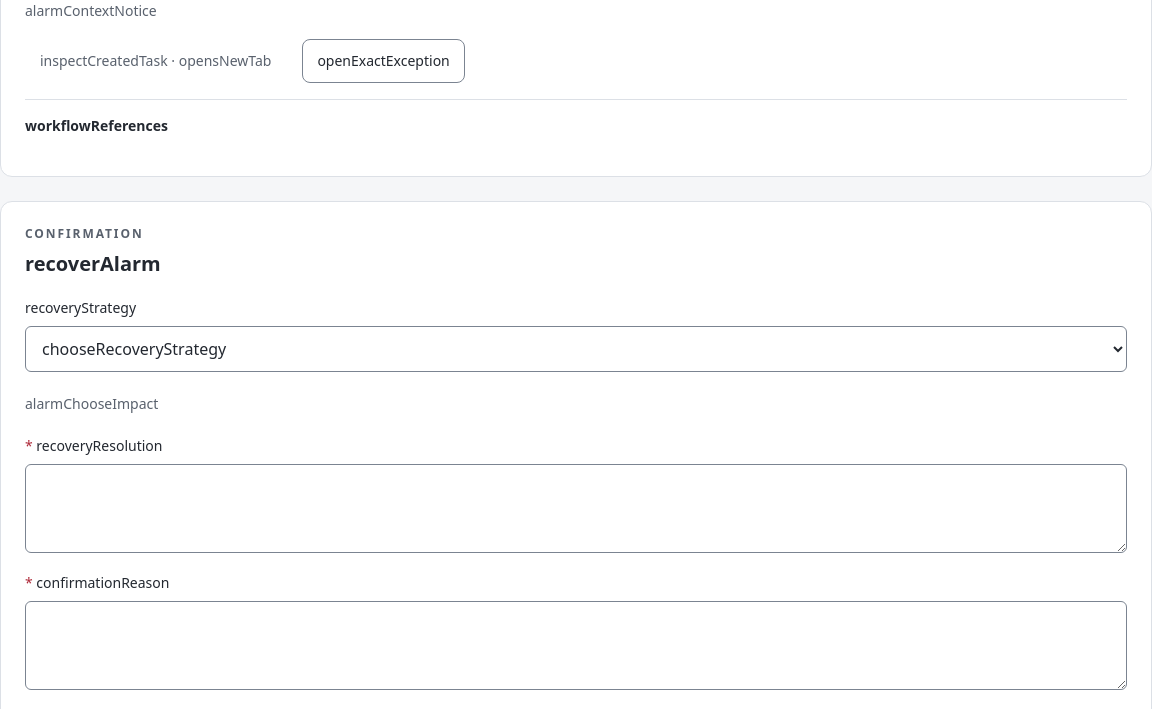
Test case: exact exception handoff retains identity while session withdrawal fails the existing mutation path
(page scrolled)
Select "releaseTask" in the dropdown labelled "recoveryStrategy": (576, 349) [25,326,1127,372]
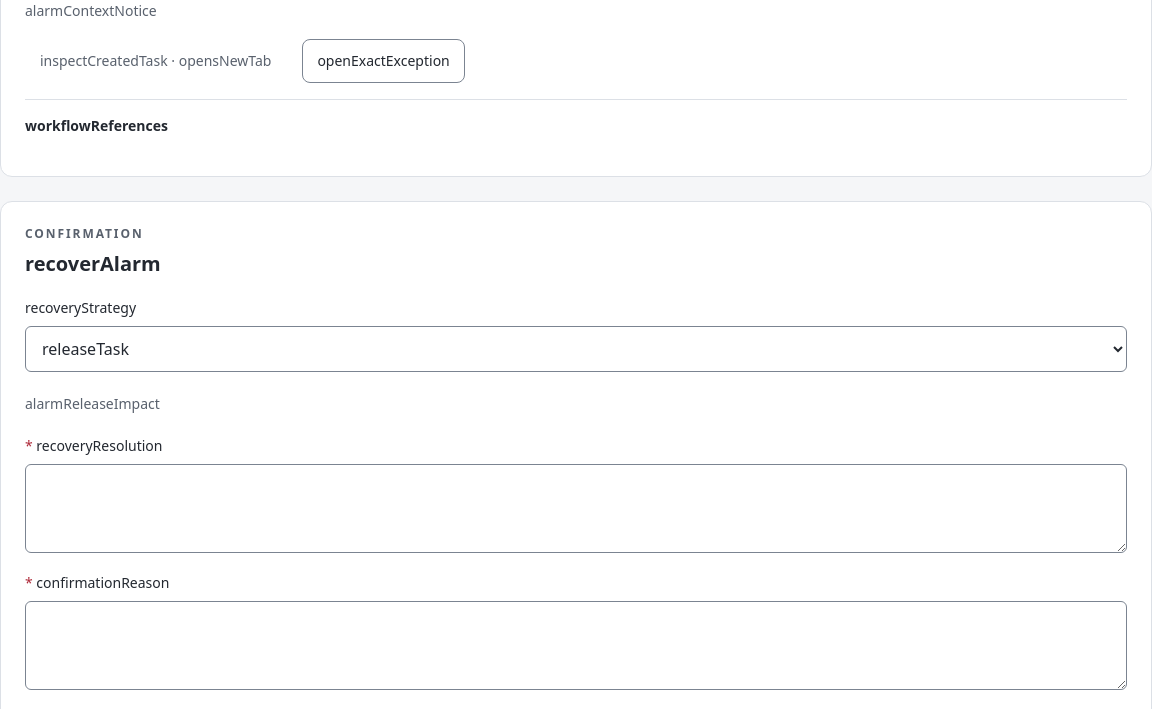
In the text box labelled "recoveryResolution": (576, 509) [25,464,1127,553], type "Physical evidence reviewed"
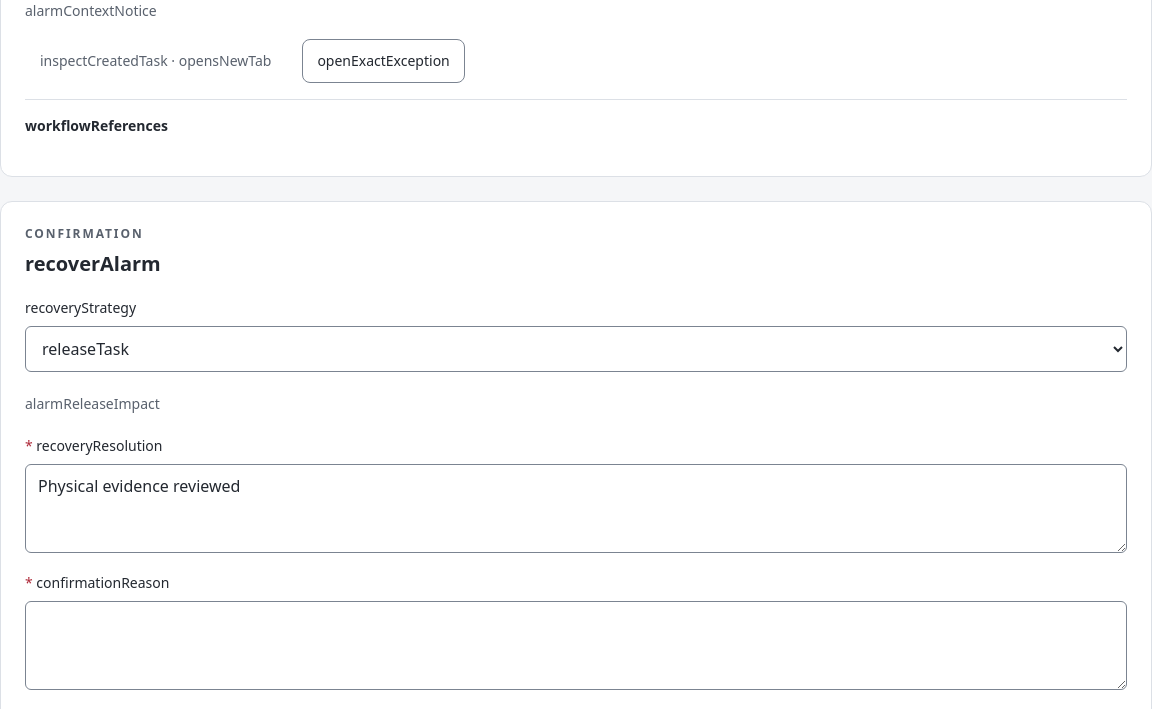
In the text box labelled "confirmationReason": (576, 646) [25,601,1127,690], type "Verified evidence"
(page scrolled)
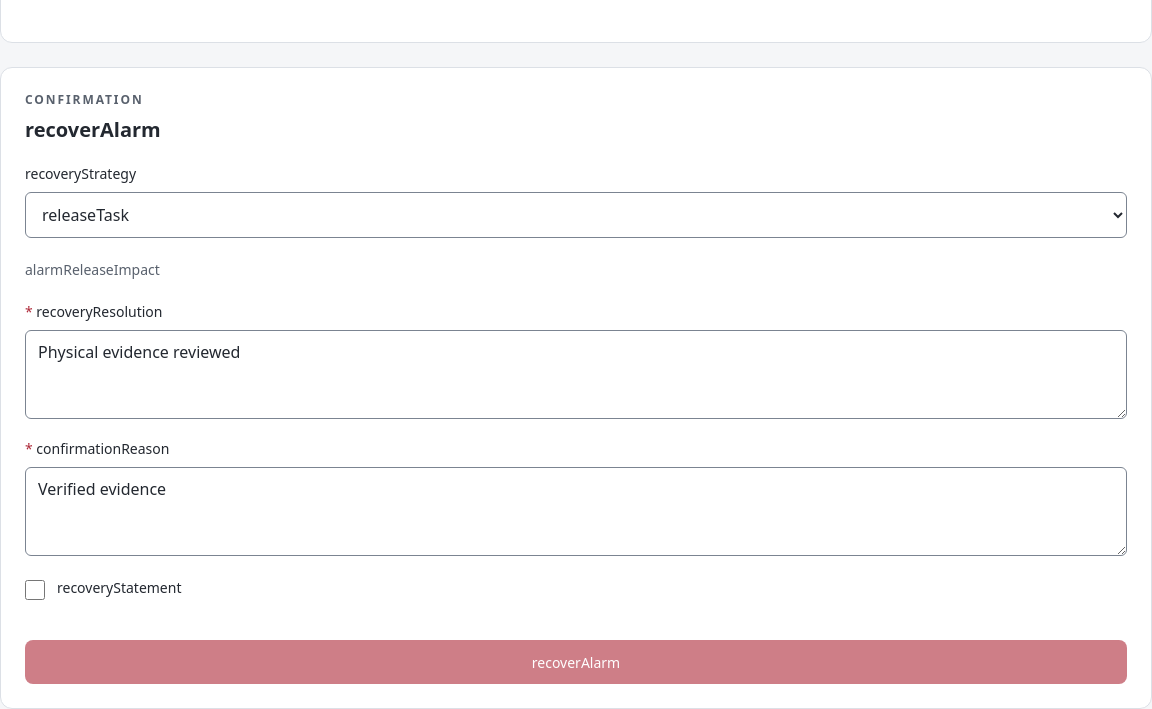
Click the checkbox: (35, 590) [25,580,45,600]
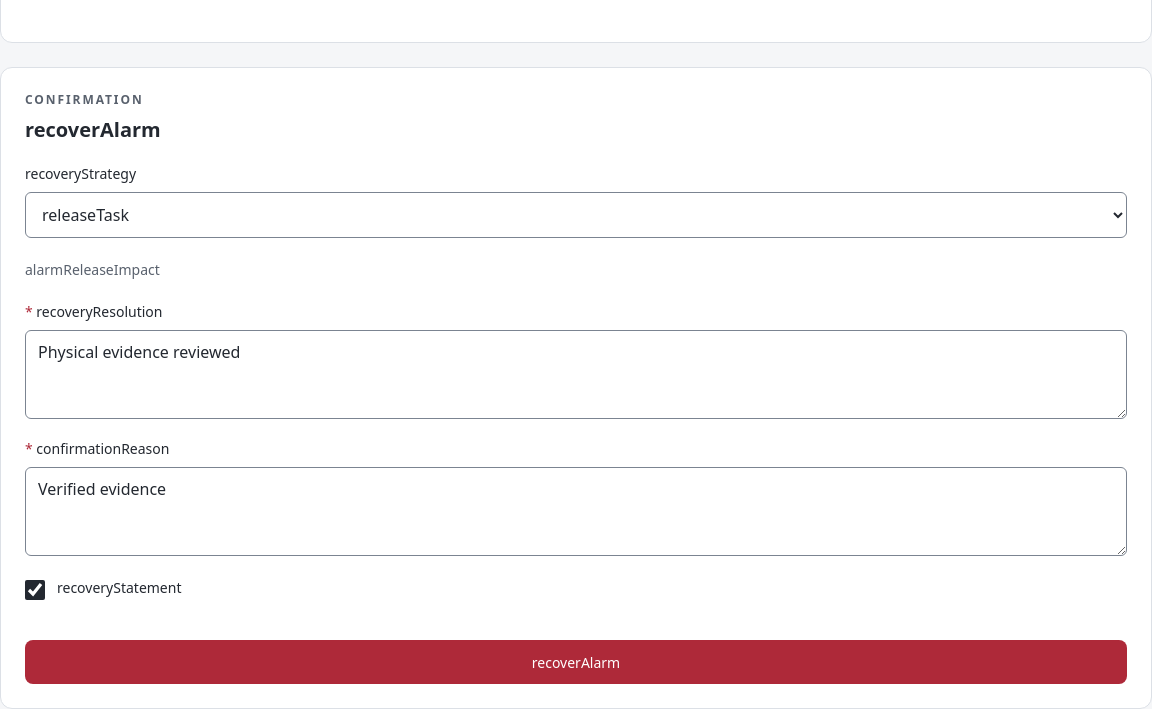
Click the button "recoverAlarm": (576, 662) [25,640,1127,684]
(page scrolled)
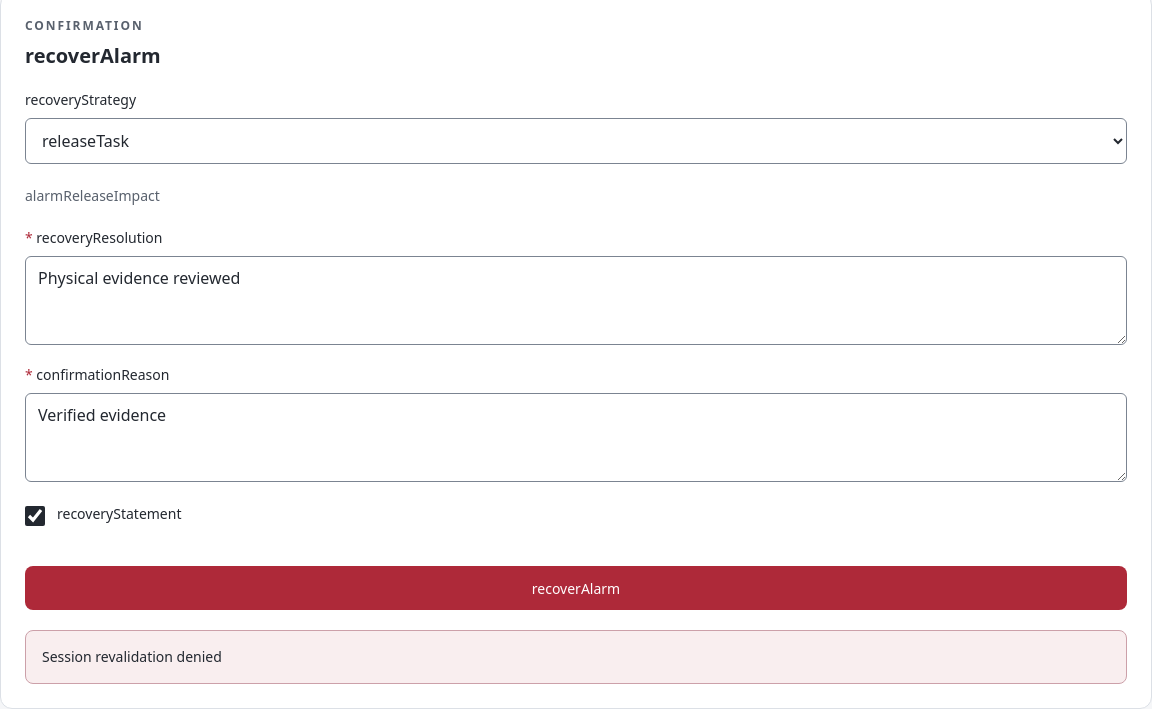
Now the message reads "Session revalidation denied", box [42,647,222,666]
